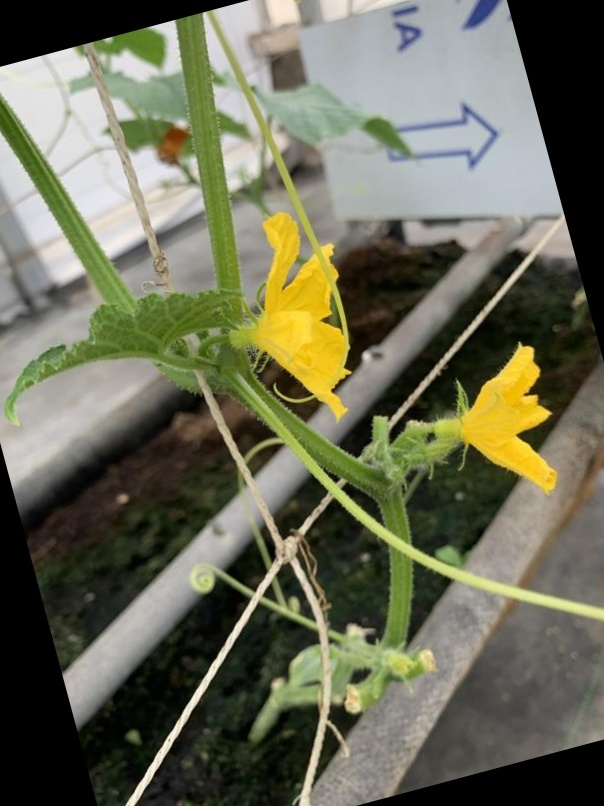flowering: (244, 194, 351, 412), (422, 342, 565, 499)
